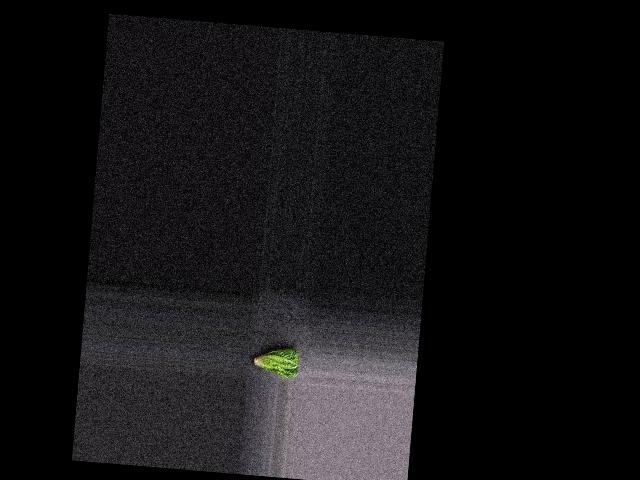lettuce: (249, 344, 300, 380)
